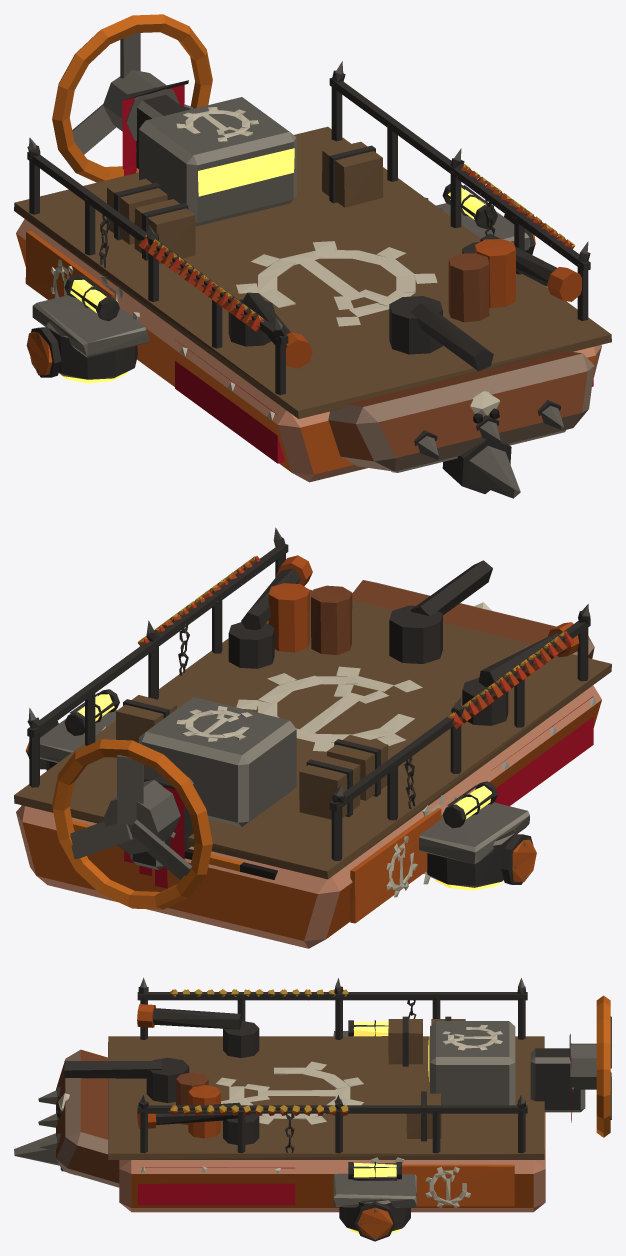
File: s_brute_gunship.glb
3 views of the same model, one above another, from view 1: azimuth 30°, elevation 25°; view 2: azimuth 150°, elevation 25°; view 3: azimuth 270°, elevation 25° (orthographic). The views are drawn at different scales.
Visible parts, largest first — view 1: s_brute_gunship; view 2: s_brute_gunship; view 3: s_brute_gunship.
Boxes of the visible parts, x1=… form: s_brute_gunship: x1=14, y1=14, x2=611, y2=498; s_brute_gunship: x1=14, y1=527, x2=611, y2=948; s_brute_gunship: x1=14, y1=977, x2=611, y2=1241.
Size of the model in its own units: 7.1 by 3.12 by 9.81.
